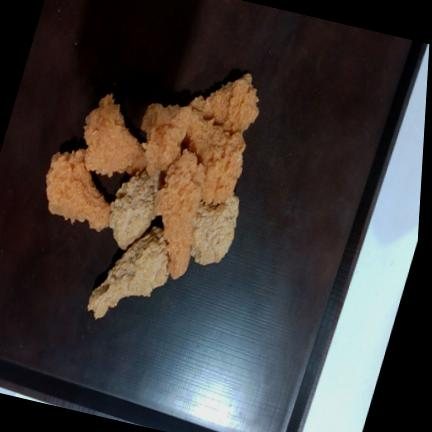chicken: (88, 226, 169, 319), (156, 149, 205, 278), (185, 111, 246, 204), (46, 149, 110, 231), (84, 94, 147, 177), (190, 73, 259, 134), (109, 171, 158, 250), (142, 104, 192, 176), (191, 194, 239, 265)
